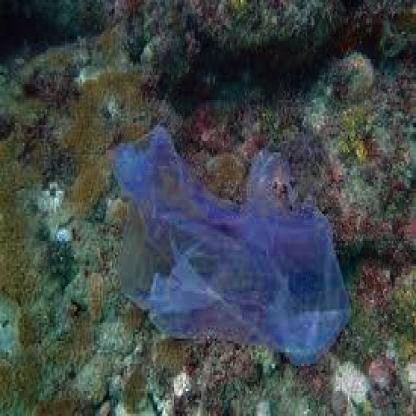pbag: (109, 125, 354, 371)
